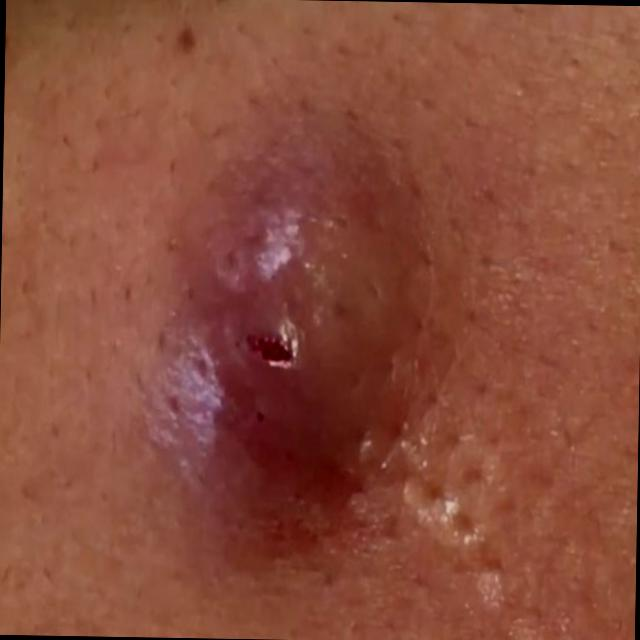nodule: (171, 106, 427, 526)
